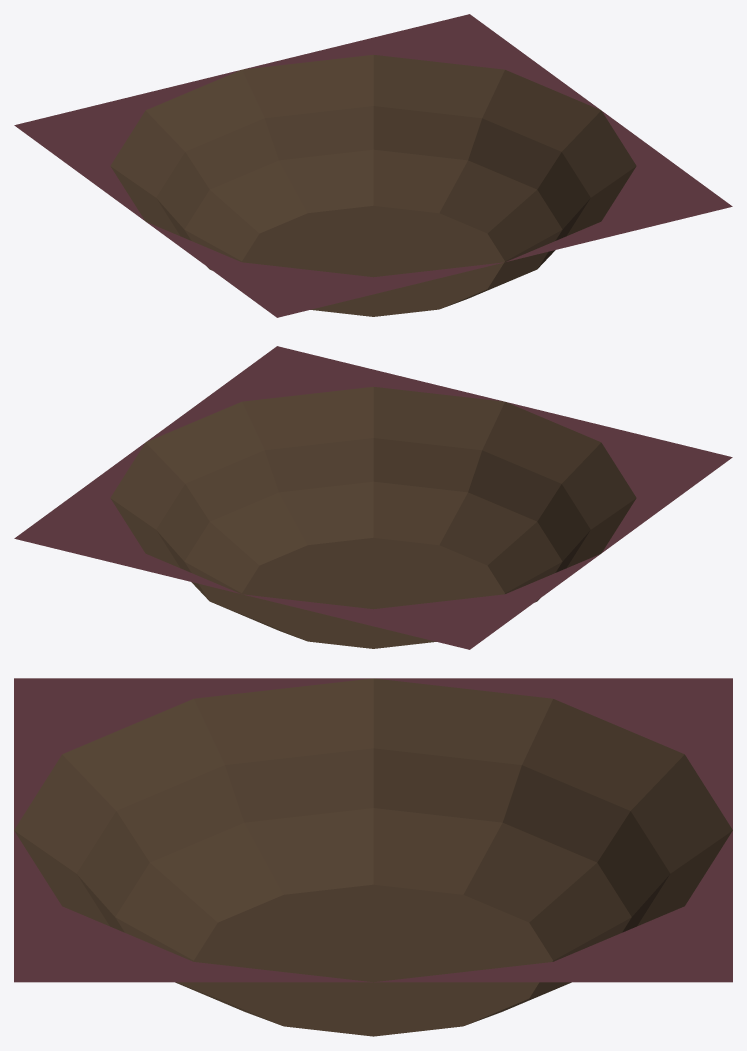
File: tiles-nb-tile-hole-big-nb.glb
3 renders of one model, top to bottom at view 1: azimuth 30°, elevation 25°; view 2: azimuth 150°, elevation 25°; view 3: azimuth 270°, elevation 25°, orthographic. The views are drawn at different scales.
Visible parts, largest first — view 1: tile-hole-big-nb; view 2: tile-hole-big-nb; view 3: tile-hole-big-nb.
Boxes of the visible parts, x1=… form: tile-hole-big-nb: x1=14, y1=14, x2=732, y2=317; tile-hole-big-nb: x1=14, y1=346, x2=732, y2=649; tile-hole-big-nb: x1=14, y1=678, x2=732, y2=1036.
Size of the model in its own units: 30 by 6 by 30.
